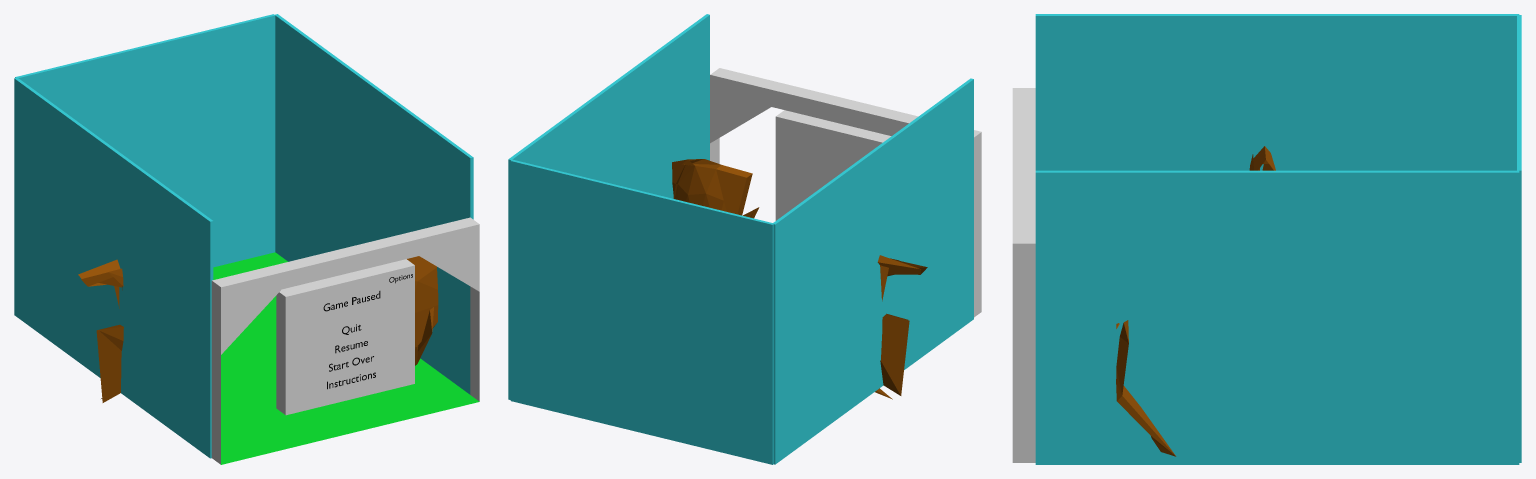
Rendered from game_paused.fbx.
3 renders of one model, left to right at view 1: azimuth 30°, elevation 25°; view 2: azimuth 150°, elevation 25°; view 3: azimuth 270°, elevation 25°, orthographic. The views are drawn at different scales.
Visible parts, largest first — view 1: Left, Right, Background, Paused Pane, Floor, Title_Pane, Triangle_Left, Triangle_Right, Obstacle_left, Obstacle_right, Wall_Left, Wall_Right; view 2: Background, Left, Right, Paused Pane, Title_Pane, Triangle_Right, Obstacle_right, Obstacle_left, Wall_Left, Triangle_Left; view 3: Right, Left, Wall_Right, Triangle_Right, Title_Pane, Background, Obstacle_right, Triangle_Left.
Part boxes in pixels (x1,y1,x2,y2): Left: [14, 77, 213, 458]; Right: [275, 14, 473, 394]; Background: [15, 14, 275, 267]; Paused Pane: [276, 259, 414, 415]; Floor: [213, 252, 479, 464]; Title_Pane: [215, 218, 479, 303]; Triangle_Left: [211, 261, 301, 354]; Triangle_Right: [390, 217, 479, 291]; Obstacle_left: [78, 259, 123, 402]; Obstacle_right: [407, 256, 438, 365]; Wall_Left: [211, 348, 220, 464]; Wall_Right: [470, 286, 479, 401]; Background: [510, 159, 773, 464]; Left: [773, 78, 973, 464]; Right: [508, 14, 709, 399]; Paused Pane: [775, 110, 891, 220]; Title_Pane: [710, 68, 981, 137]; Triangle_Right: [710, 68, 800, 143]; Obstacle_right: [672, 159, 759, 218]; Obstacle_left: [875, 255, 927, 399]; Wall_Left: [974, 201, 981, 317]; Triangle_Left: [890, 112, 981, 205]; Right: [1035, 170, 1519, 464]; Left: [1035, 14, 1519, 170]; Wall_Right: [1012, 327, 1035, 462]; Triangle_Right: [1012, 195, 1035, 327]; Title_Pane: [1012, 88, 1035, 264]; Background: [1517, 15, 1521, 462]; Obstacle_right: [1116, 320, 1176, 456]; Triangle_Left: [1012, 88, 1035, 136].
Size of the model in its own units: 2022 by 1437 by 2220.
